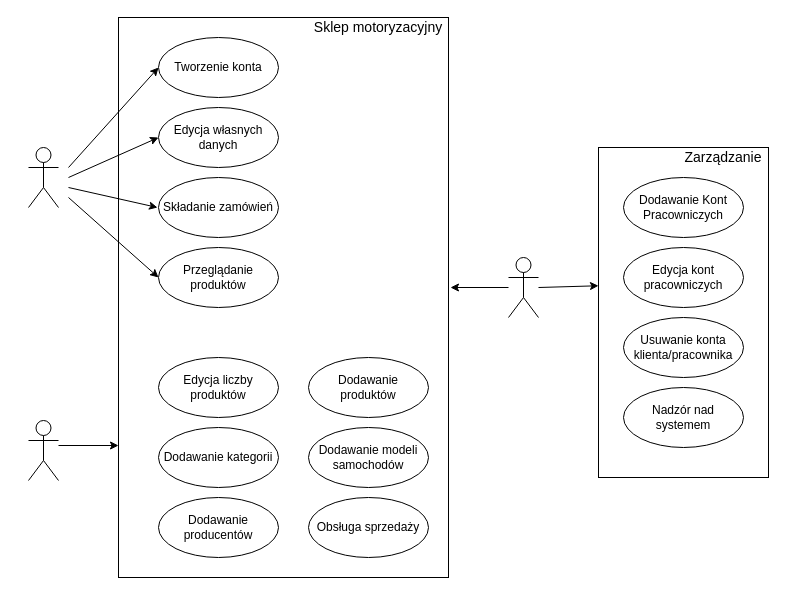
This 786x595 diagram has some shape labels left out. Here are the shapes that lost their labels. From the top down, the box of each, then its label:
(28, 146, 58, 208): Customer
(508, 256, 538, 318): Admin
(28, 420, 58, 480): Worker
